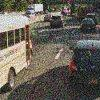buses: (0, 13, 35, 91)
